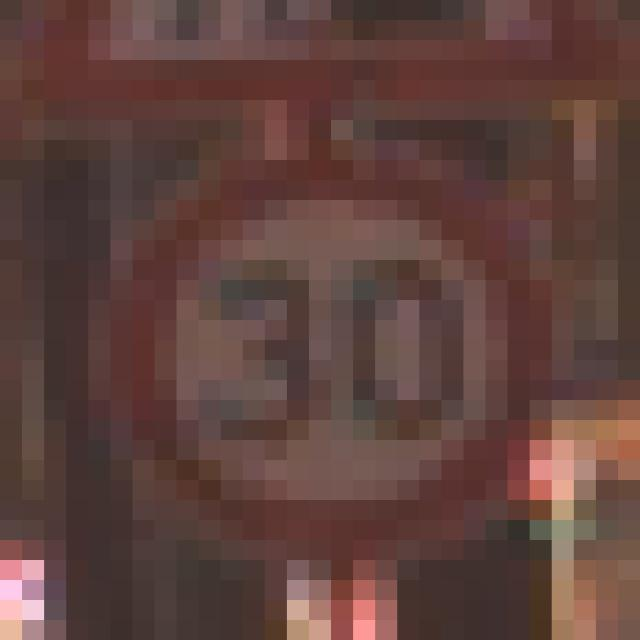Speed Limit -30-: (99, 110, 519, 510)
